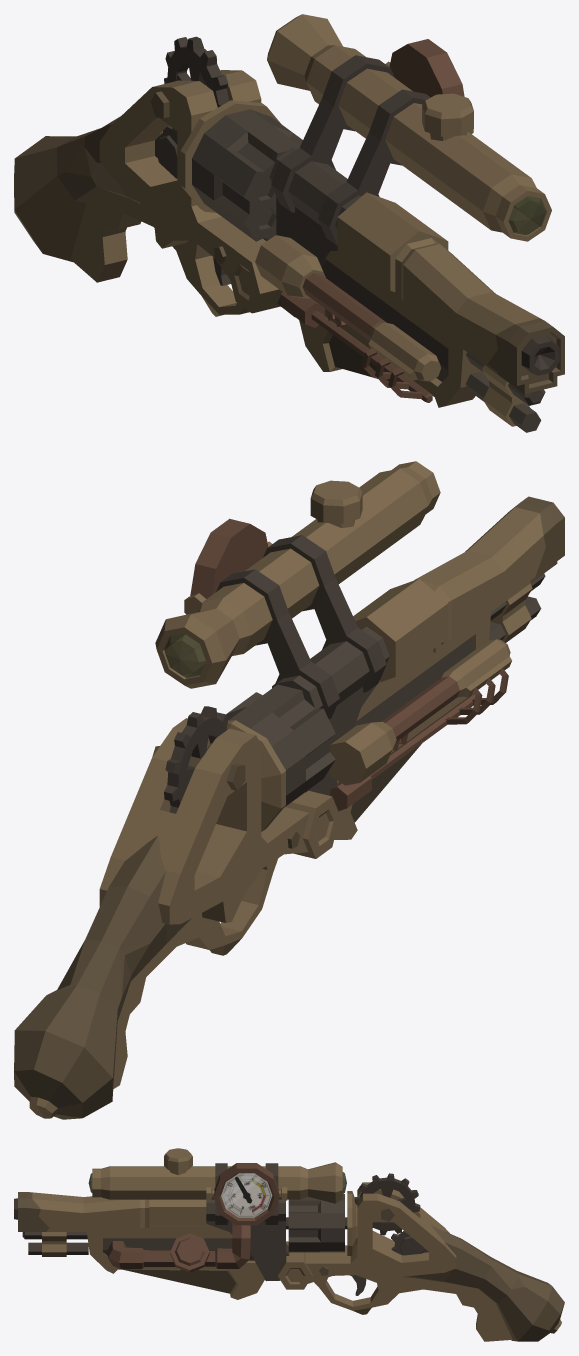
File: Pistol_01.fbx
3 renders of one model, top to bottom at view 1: azimuth 30°, elevation 25°; view 2: azimuth 150°, elevation 25°; view 3: azimuth 270°, elevation 25°, orthographic. The views are drawn at different scales.
Parts seen in each view (by area): view 1: Pistol_01, Pistol_01_Cylinder, Pistol_01_Hammer, Pistol_01_Glass; view 2: Pistol_01, Pistol_01_Cylinder, Pistol_01_Hammer, Pistol_01_Glass; view 3: Pistol_01, Pistol_01_Cylinder, Pistol_01_Hammer.
Boxes of the visible parts, x1,y1,x2,y2 form: Pistol_01: (14,14,564,432); Pistol_01_Cylinder: (192,109,302,241); Pistol_01_Hammer: (164,36,228,107); Pistol_01_Glass: (508,196,545,235); Pistol_01: (14,461,564,1119); Pistol_01_Cylinder: (226,684,335,807); Pistol_01_Hammer: (164,706,228,813); Pistol_01_Glass: (164,633,206,677); Pistol_01: (14,1148,564,1341); Pistol_01_Cylinder: (286,1194,347,1252); Pistol_01_Hammer: (354,1173,420,1235).
Bounding box in the file's own units: 0.0966 × 0.2072 × 0.512.
